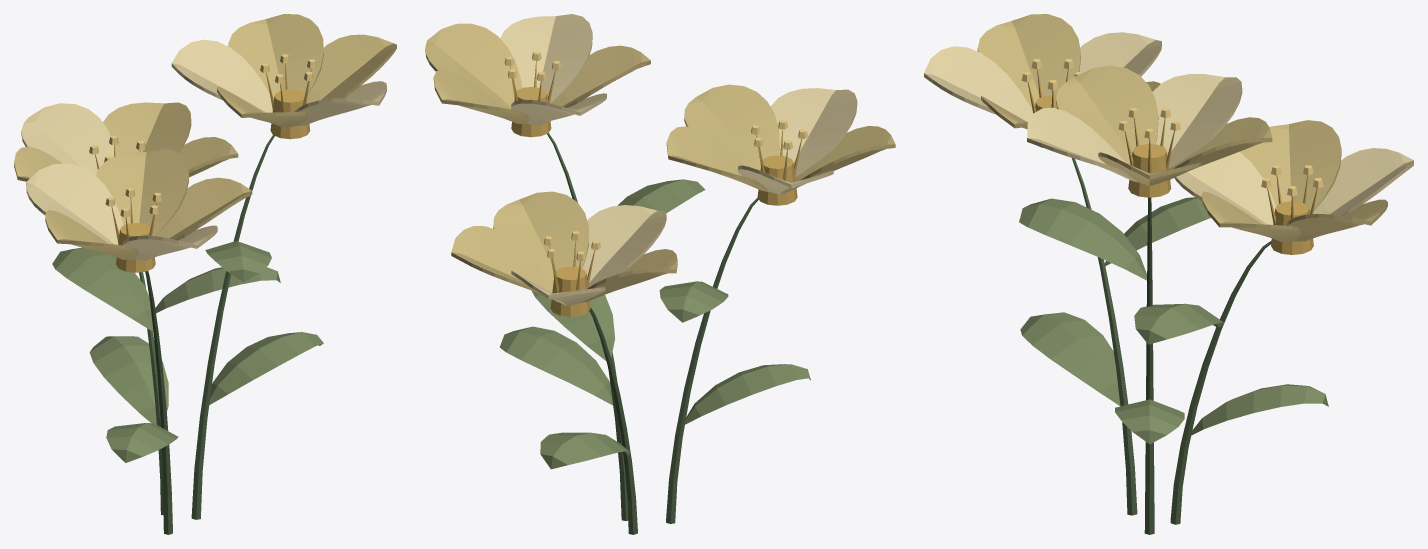
File: DESERT_BLOOM.hi.glb
3 renders of one model, left to right at view 1: azimuth 30°, elevation 25°; view 2: azimuth 150°, elevation 25°; view 3: azimuth 270°, elevation 25°, orthographic. The views are drawn at different scales.
Parts seen in each view (by area): view 1: DESERT_BLOOM; view 2: DESERT_BLOOM; view 3: DESERT_BLOOM.
Part boxes in pixels (x1=…): DESERT_BLOOM: x1=14, y1=14, x2=396, y2=534; DESERT_BLOOM: x1=425, y1=14, x2=895, y2=534; DESERT_BLOOM: x1=924, y1=14, x2=1413, y2=534.
Size of the model in its own units: 0.3489 by 0.3626 by 0.3421.
Materials: 1 (1 with a texture image).
